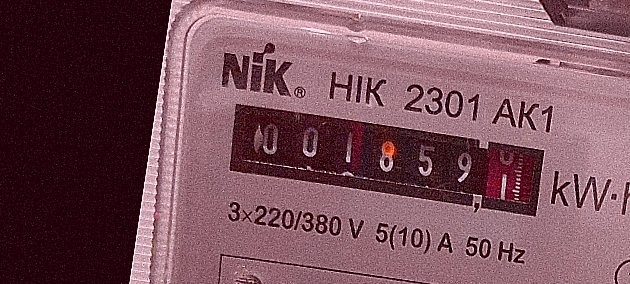0: (257, 119, 282, 157), (297, 122, 321, 158)
1: (340, 128, 356, 165), (494, 169, 511, 201)
5: (412, 140, 437, 178)
8: (374, 136, 399, 173)
9: (451, 148, 475, 184)
screen: (212, 89, 557, 227)
